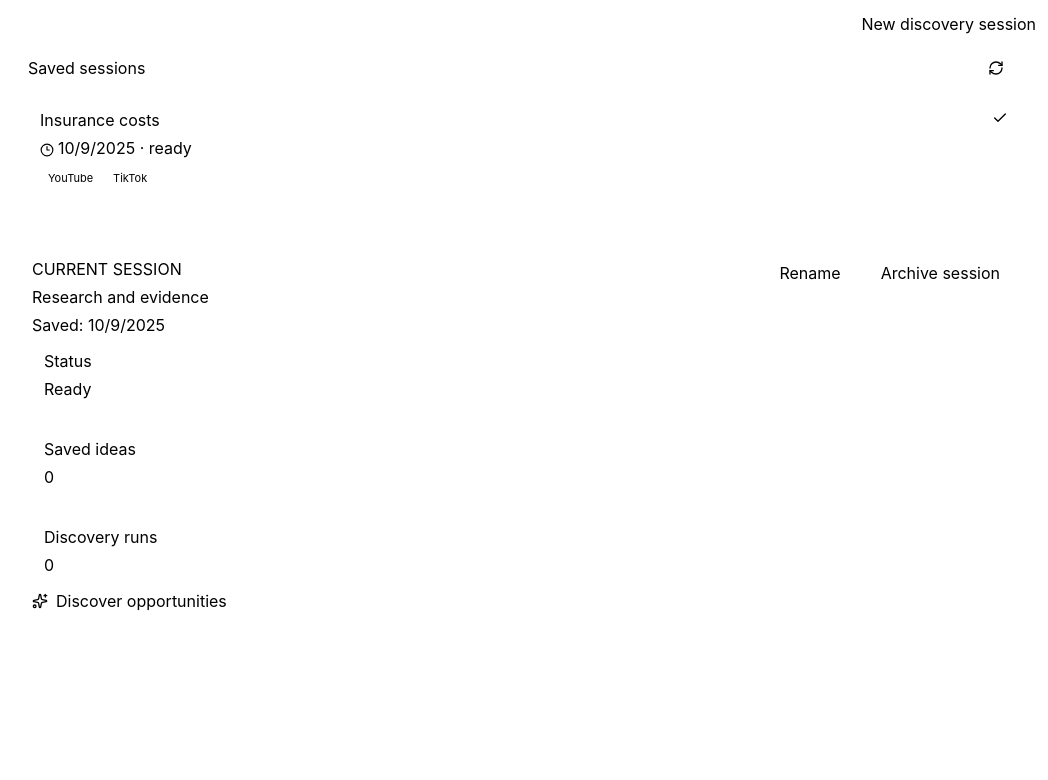
Test: Content discovery sessions › keeps saved sessions available while showing an actionable discovery failure
What coordinates should you click on to do the following:
click the button "Discover opportunities"
I would click on:
 (129, 600)
Its box is top-left (32, 588), bottom-right (227, 612).
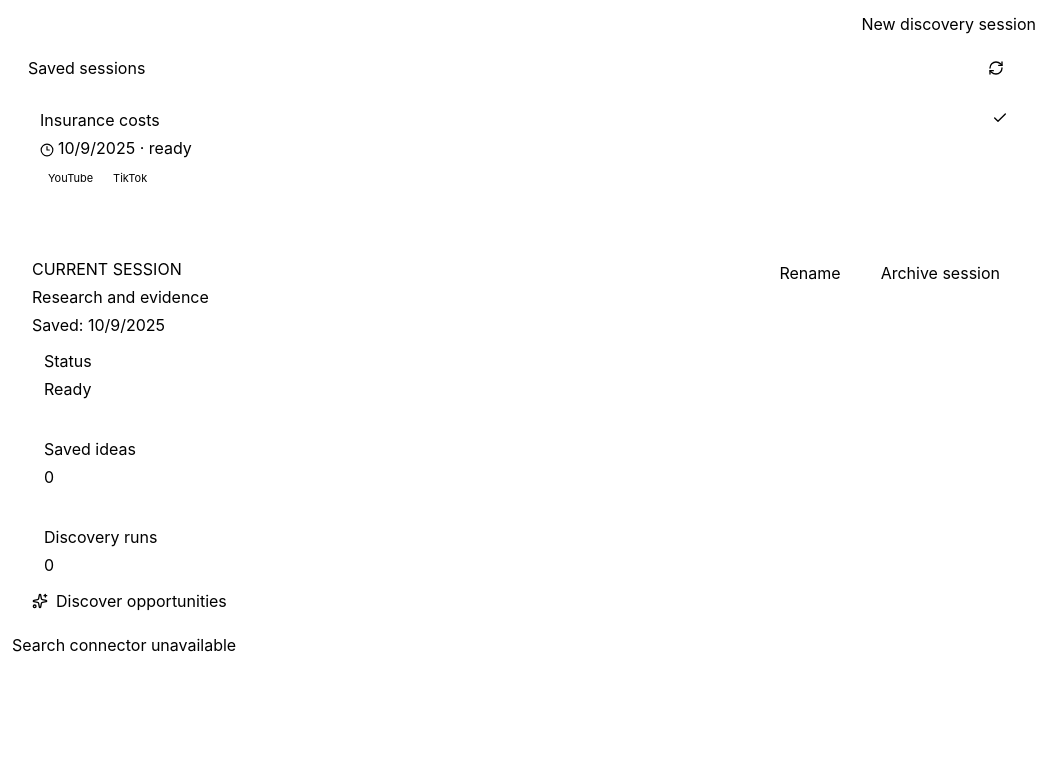
Expected: the text "Insurance costs" is shown, top-left (40, 108), bottom-right (160, 132)
Result: the message reads "Search connector unavailable" at top-left (12, 634), bottom-right (236, 654)
